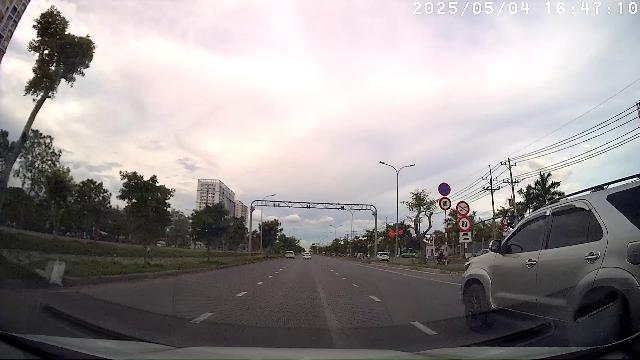127-toc-do-toi-da-60: (457, 217, 471, 231)
127-toc-do-toi-da-80: (439, 197, 451, 210)
130-cam-dung-va-do-xe: (438, 182, 450, 196)
